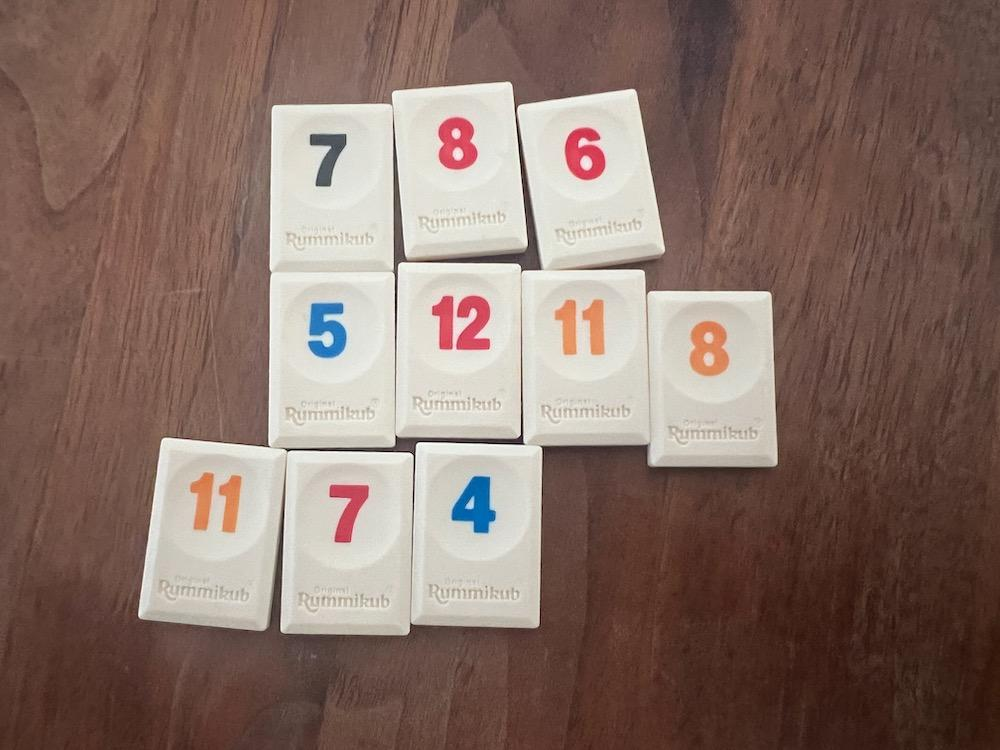black_7: (271, 105, 391, 271)
blue_4: (414, 443, 541, 627)
blue_5: (270, 271, 395, 449)
orange_11: (139, 439, 285, 631), (523, 270, 650, 445)
orange_8: (648, 291, 777, 467)
red_12: (396, 264, 521, 439)
red_6: (518, 90, 664, 269)
red_7: (282, 451, 414, 634)
red_8: (394, 82, 527, 260)
